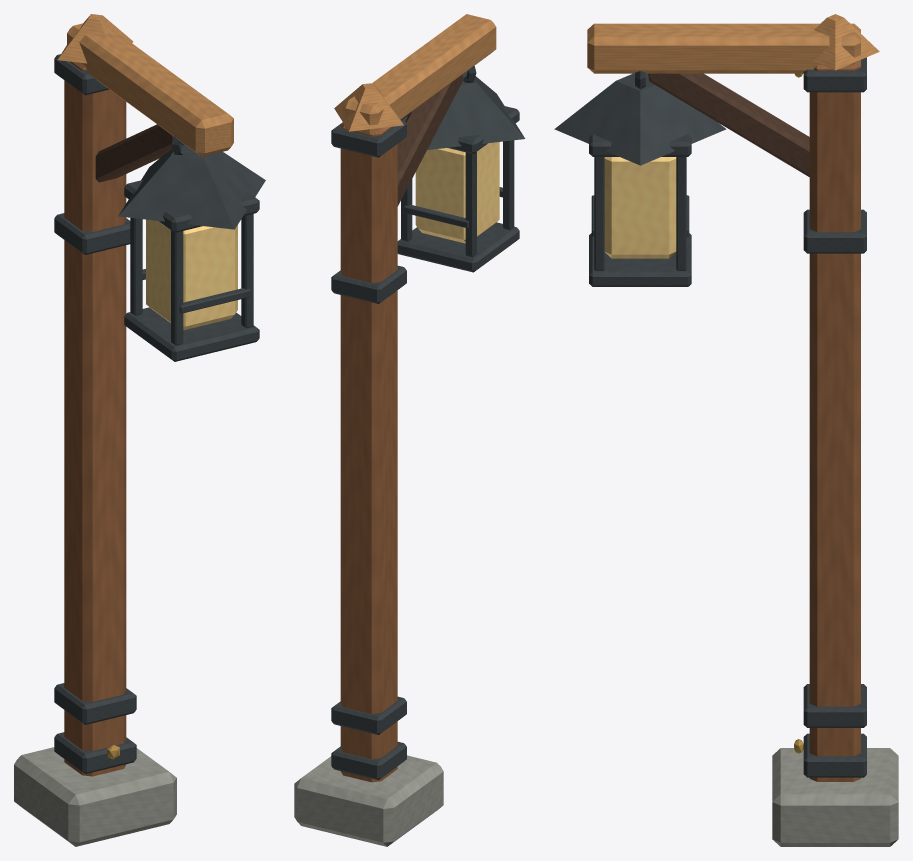
File: lantern_street_oak.glb
The picture shows the model from 3 angles, left to right: view 1: azimuth 30°, elevation 25°; view 2: azimuth 150°, elevation 25°; view 3: azimuth 270°, elevation 25°; orthographic projection. The views are drawn at different scales.
Visible parts, largest first — view 1: lantern_street_oak; view 2: lantern_street_oak; view 3: lantern_street_oak.
Boxes of the visible parts, bbox=[...] form: lantern_street_oak: bbox=[14, 14, 265, 846]; lantern_street_oak: bbox=[294, 14, 525, 846]; lantern_street_oak: bbox=[554, 14, 898, 846].
Bounding box in the file's own units: 0.504 × 2.6 × 1.01.
1 material, 1 textured.
